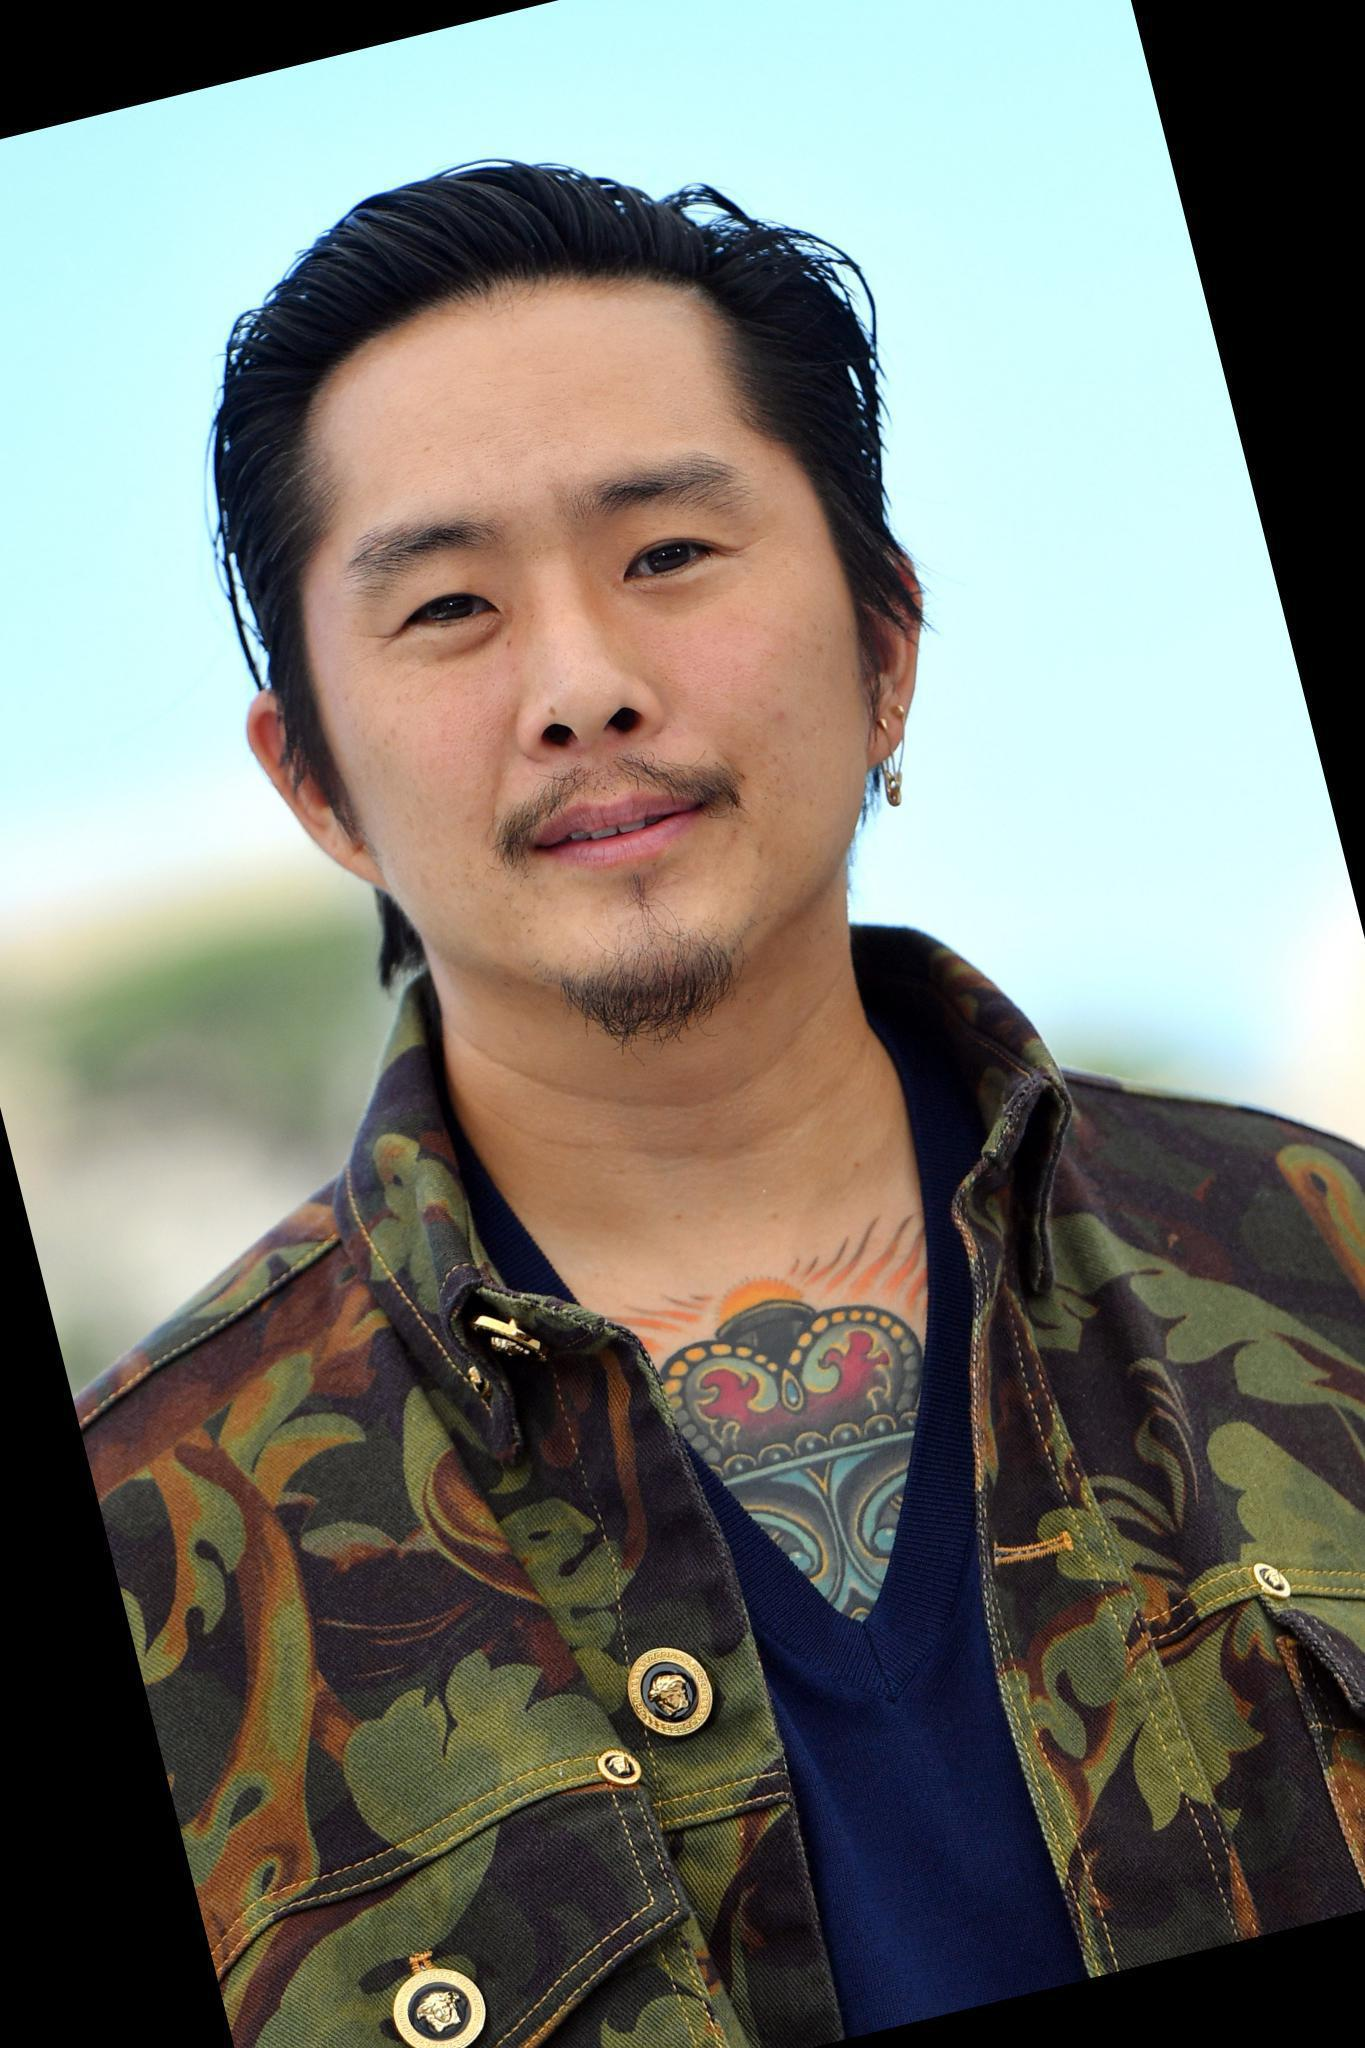Sober: (347, 346, 852, 961)
